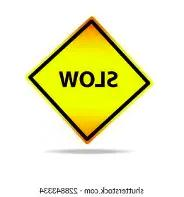Slow: (30, 18, 151, 143)
